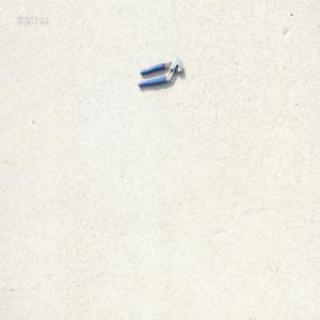Pliertrack_idkeyframe: (137, 56, 183, 89)
